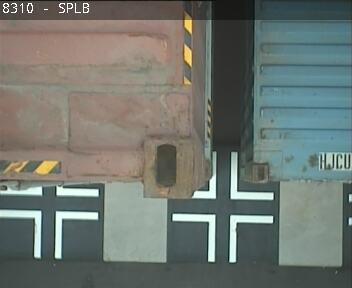groundmarker_1: (172, 213, 273, 262), (1, 209, 98, 257), (192, 151, 274, 198)
